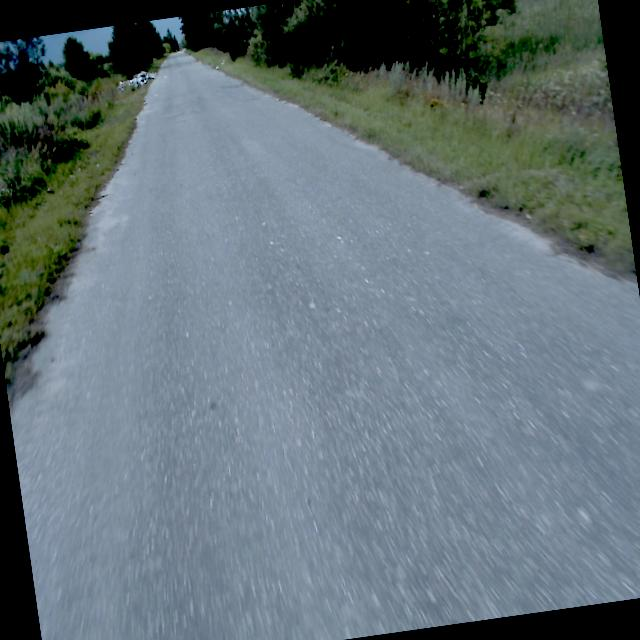road: (10, 52, 640, 640)
